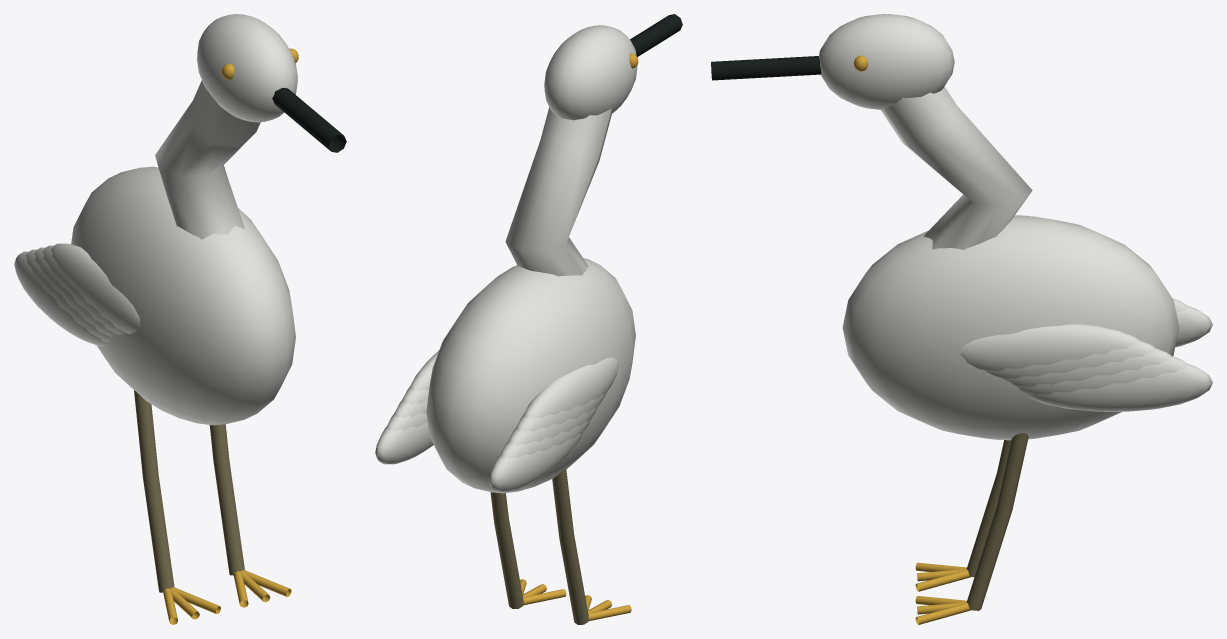
File: egret.glb
The picture shows the model from 3 angles, left to right: view 1: azimuth 30°, elevation 25°; view 2: azimuth 150°, elevation 25°; view 3: azimuth 270°, elevation 25°; orthographic projection. The views are drawn at different scales.
Visible parts, largest first — view 1: Body.001, Folded neck, Head.001, Wing feather.010, Leg, Leg.001, Wing feather.014, Pointed bill, Wing feather.013, Wing feather.011, Wing feather.012; view 2: Body.001, Folded neck, Head.001, Wing feather.010, Leg, Wing feather.014, Leg.001, Wing feather.019, Pointed bill, Wing feather.011, Wing feather.012, Wing feather.013 (+2 smaller); view 3: Body.001, Folded neck, Head.001, Wing feather.015, Wing feather.019, Leg.001, Pointed bill, Wing feather.018, Wing feather.016, Wing feather.017, Leg, Wing feather.014.
Boxes of the visible parts, bbox=[...] form: Body.001: bbox=[71, 166, 295, 425]; Folded neck: bbox=[155, 80, 260, 239]; Head.001: bbox=[197, 14, 297, 122]; Wing feather.010: bbox=[51, 243, 140, 333]; Leg: bbox=[134, 390, 174, 592]; Leg.001: bbox=[209, 424, 244, 575]; Wing feather.014: bbox=[14, 251, 107, 346]; Pointed bill: bbox=[272, 87, 346, 152]; Wing feather.013: bbox=[25, 249, 109, 342]; Wing feather.011: bbox=[42, 245, 125, 334]; Wing feather.012: bbox=[34, 247, 116, 336]; Body.001: bbox=[426, 258, 635, 493]; Folded neck: bbox=[505, 107, 611, 276]; Head.001: bbox=[544, 25, 637, 120]; Wing feather.010: bbox=[523, 357, 618, 419]; Leg: bbox=[552, 468, 588, 624]; Wing feather.014: bbox=[489, 430, 584, 492]; Leg.001: bbox=[490, 492, 523, 608]; Wing feather.019: bbox=[375, 423, 433, 464]; Pointed bill: bbox=[630, 14, 682, 56]; Wing feather.011: bbox=[515, 390, 607, 432]; Wing feather.012: bbox=[507, 403, 600, 445]; Wing feather.013: bbox=[500, 416, 592, 458]; Body.001: bbox=[842, 215, 1179, 440]; Folded neck: bbox=[881, 86, 1032, 249]; Head.001: bbox=[819, 14, 954, 109]; Wing feather.015: bbox=[960, 324, 1140, 370]; Wing feather.019: bbox=[1026, 364, 1212, 411]; Leg.001: bbox=[967, 433, 1028, 610]; Pointed bill: bbox=[711, 56, 821, 80]; Wing feather.018: bbox=[1017, 356, 1188, 394]; Wing feather.016: bbox=[985, 340, 1156, 378]; Wing feather.017: bbox=[1002, 348, 1172, 386]; Leg: bbox=[966, 440, 1011, 577]; Wing feather.014: bbox=[1175, 306, 1212, 347].
Bounding box in the file's own units: 0.278 × 1.03 × 0.805.
